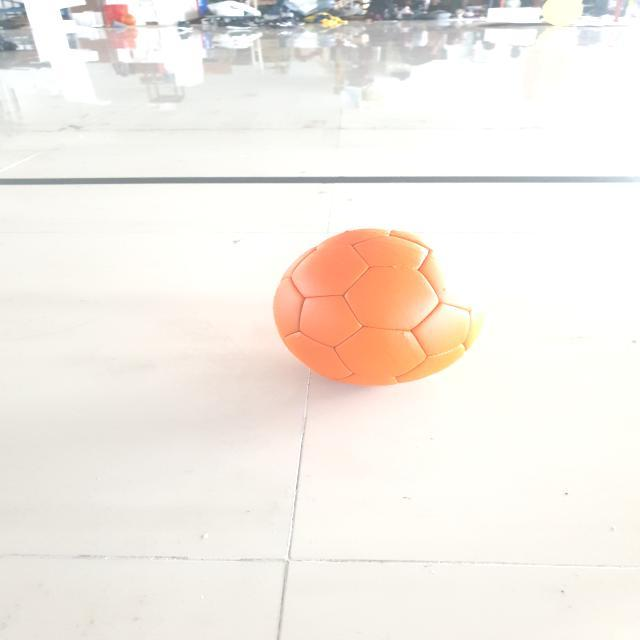bola: (262, 219, 496, 399)
